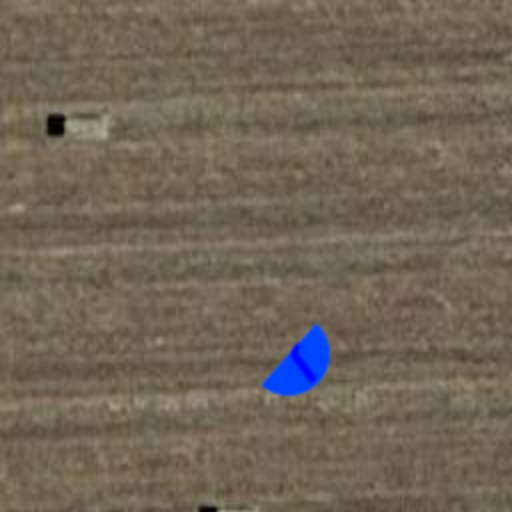semicircle: (244, 308, 364, 428)
